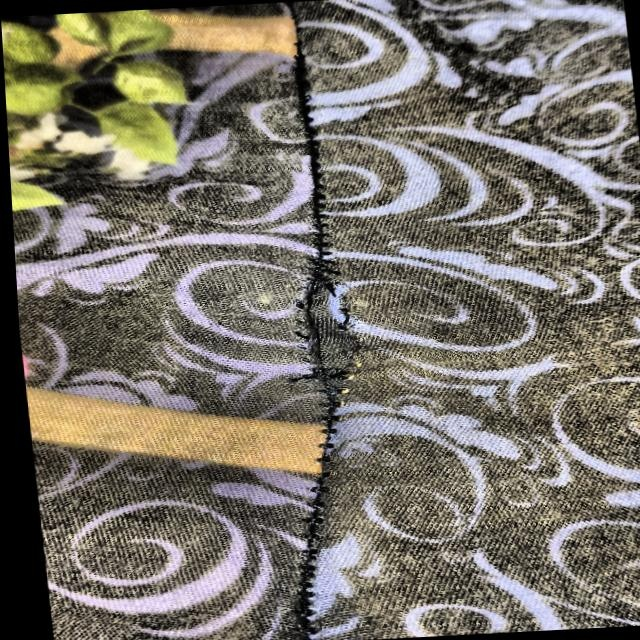seam: (234, 192, 415, 469)
